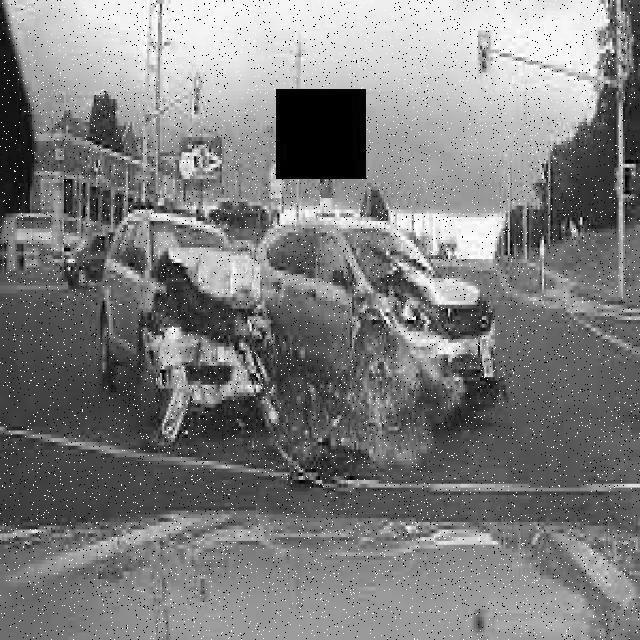accident: (102, 192, 495, 440)
vehicle: (60, 229, 102, 291)
